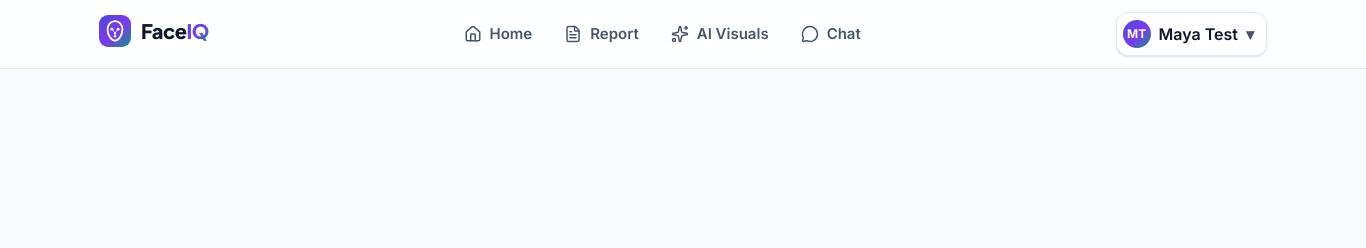
it: The app header › puts Settings in the user menu (AC11.2.1)
Click the button with test id "user-menu-button" at (1191, 34), box [1116, 12, 1267, 56]
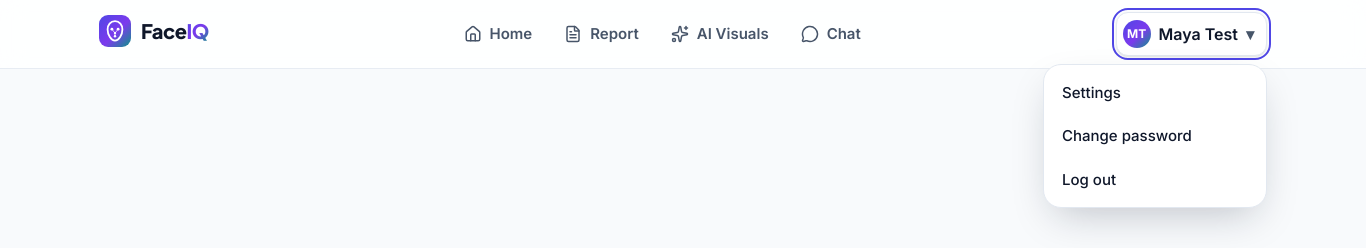
Check: the menu item with test id "user-menu-settings-link" reads "Settings", box [1062, 83, 1121, 102]
